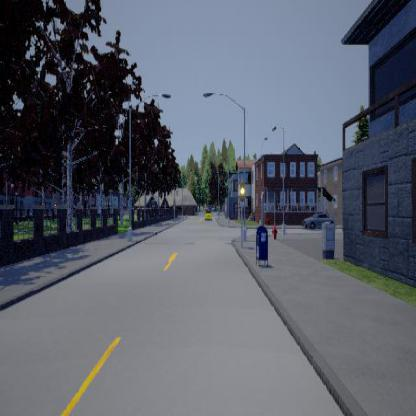traffic_light_orange: (239, 176, 244, 205)
vehicle: (302, 212, 334, 229), (203, 208, 211, 220)
